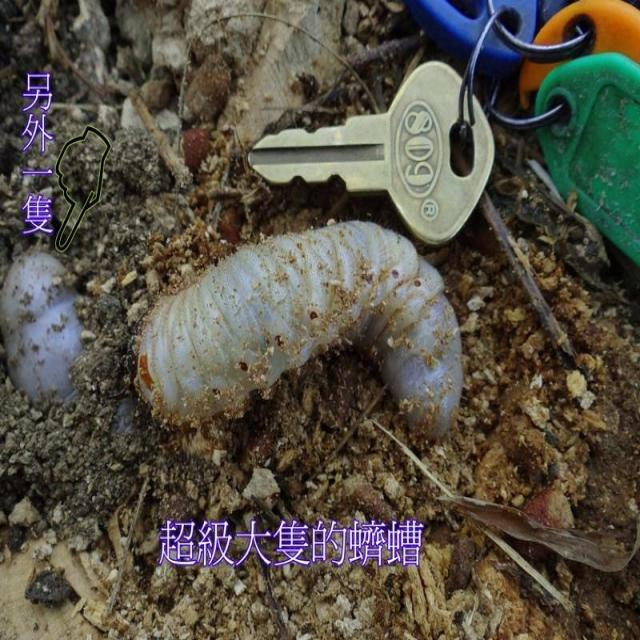grub: (126, 213, 490, 440)
